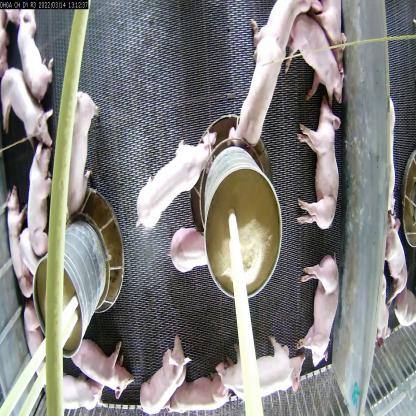Pig: (133, 126, 221, 230), (214, 332, 306, 404), (296, 90, 341, 231), (235, 18, 283, 150), (287, 7, 346, 106), (297, 246, 341, 368), (65, 87, 103, 216), (70, 331, 136, 404), (2, 63, 52, 152), (4, 177, 36, 311), (137, 332, 190, 412), (14, 10, 53, 102), (170, 361, 233, 416), (27, 141, 57, 254), (60, 362, 111, 416), (384, 209, 411, 306), (166, 226, 211, 274)
